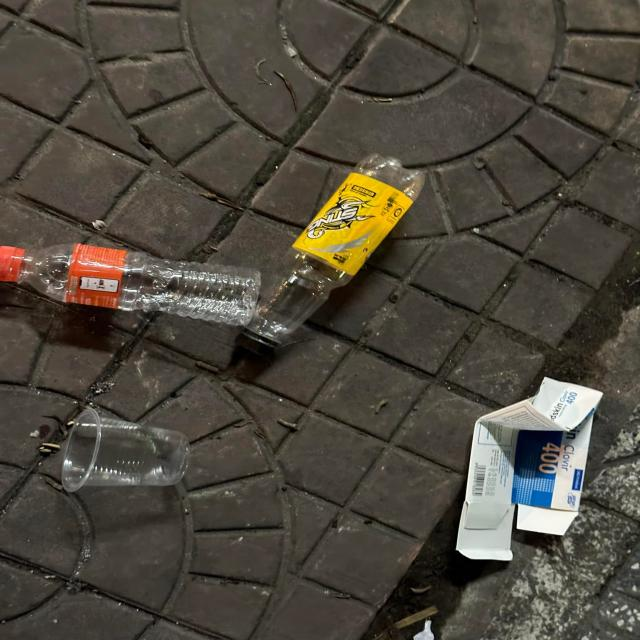bottle: (234, 152, 426, 358), (0, 243, 263, 325)
cardboard box: (456, 376, 604, 561)
plastic glass: (61, 409, 191, 492)
